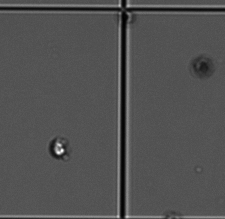Dead Cell: (192, 53, 215, 76)
Living Cell: (48, 136, 72, 160)
